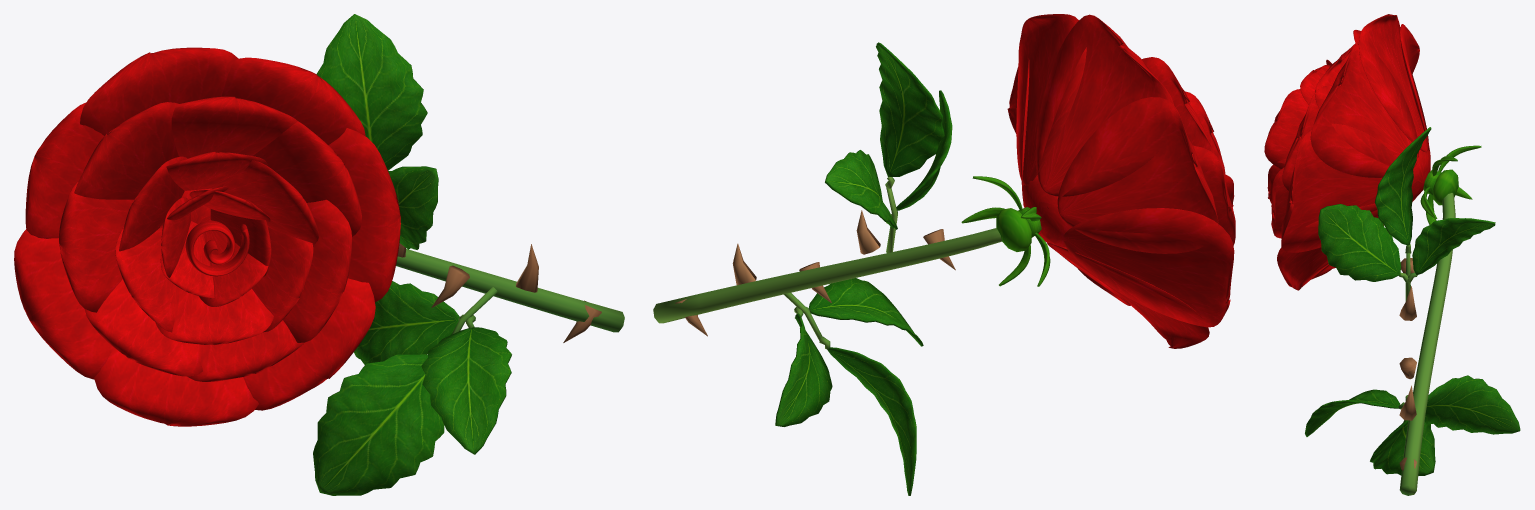
File: NP_Rose_Harvest.fbx
3 views of the same model, side by side, from view 1: azimuth 30°, elevation 25°; view 2: azimuth 150°, elevation 25°; view 3: azimuth 270°, elevation 25° (orthographic). The views are drawn at different scales.
Visible parts, largest first — view 1: NP_Rose_Harvest; view 2: NP_Rose_Harvest; view 3: NP_Rose_Harvest.
Part boxes in pixels (x1,y1,x2,y2): NP_Rose_Harvest: [14, 14, 624, 495]; NP_Rose_Harvest: [653, 14, 1235, 495]; NP_Rose_Harvest: [1264, 14, 1520, 495].
Bounding box in the file's own units: 50.04 × 40.29 × 23.95.
